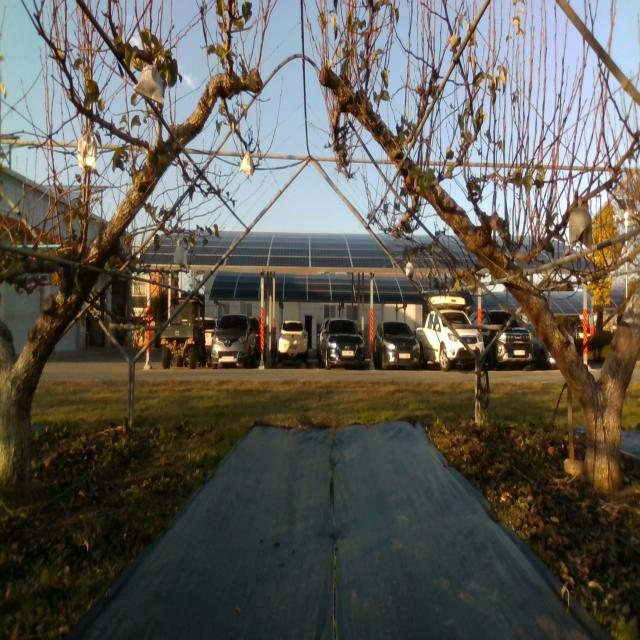pearbags: (134, 64, 164, 103), (569, 207, 593, 250), (77, 133, 96, 168), (174, 245, 188, 270), (239, 152, 254, 174)
